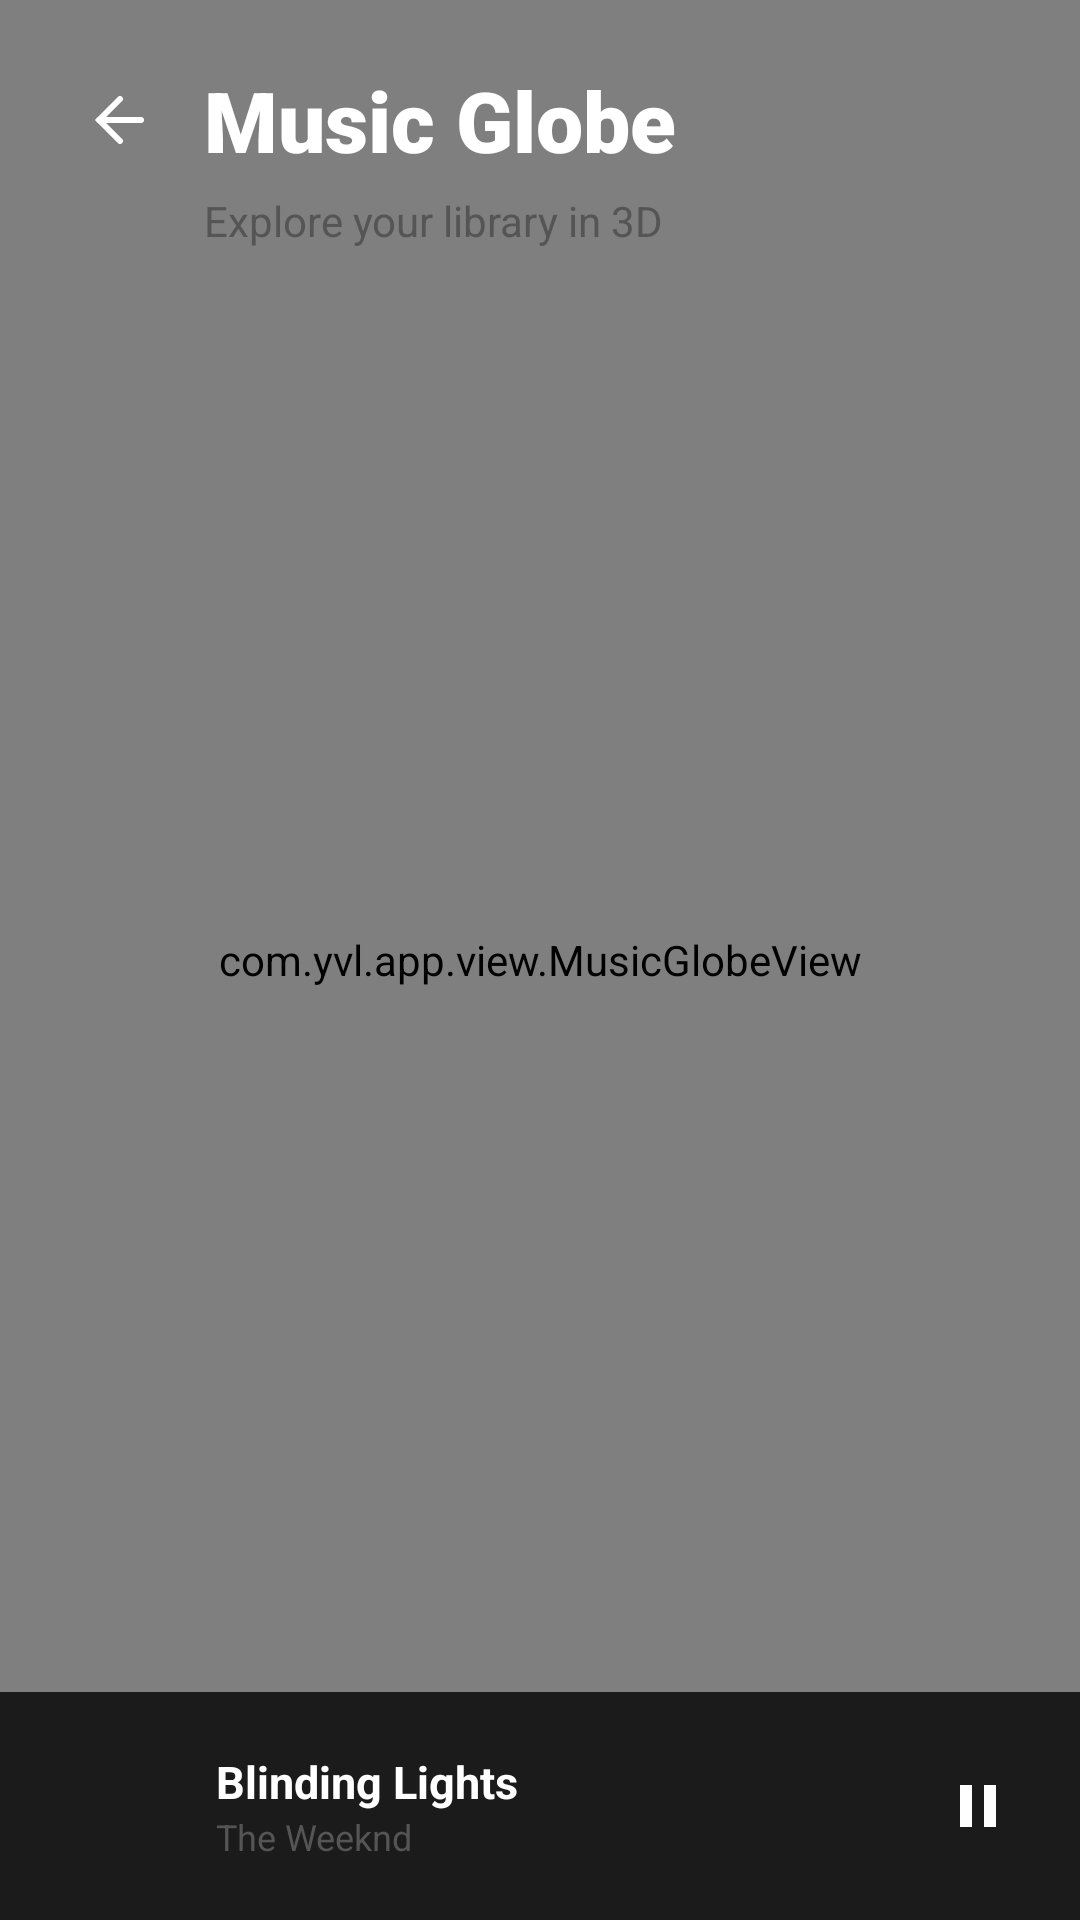

Icon bounding boxes for this 1080px×1920px phone screenshot, format {"x1": x1, "y1": y1, "x2": x2, "y2": y2}:
back: {"x1": 95, "y1": 96, "x2": 144, "y2": 144}
pause: {"x1": 960, "y1": 1785, "x2": 996, "y2": 1827}
